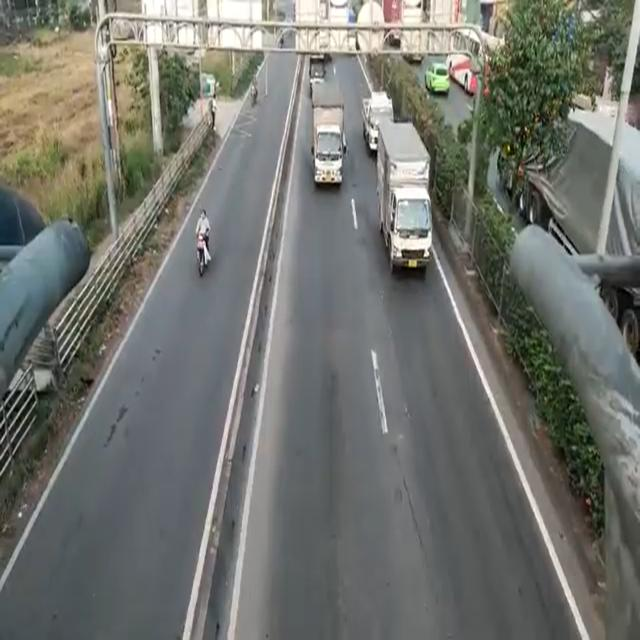motor: (195, 220, 213, 278)
truck: (378, 125, 428, 274), (306, 78, 349, 200), (365, 90, 388, 148)
